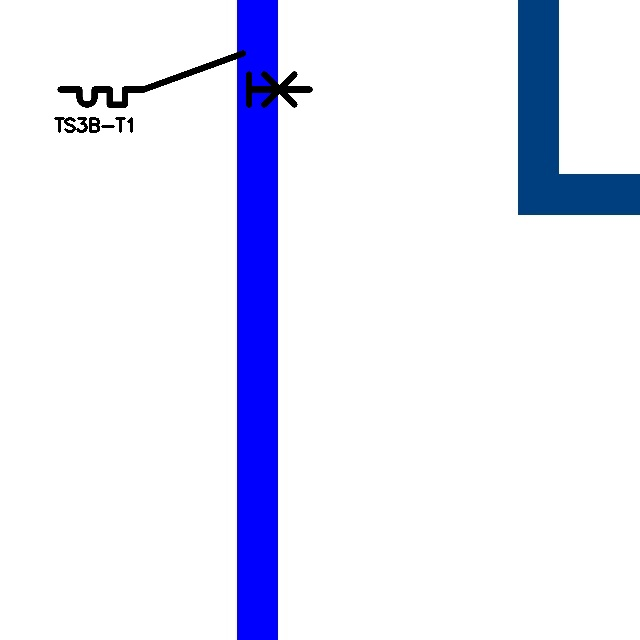interruptor_termomagnetico: (54, 47, 316, 111)
